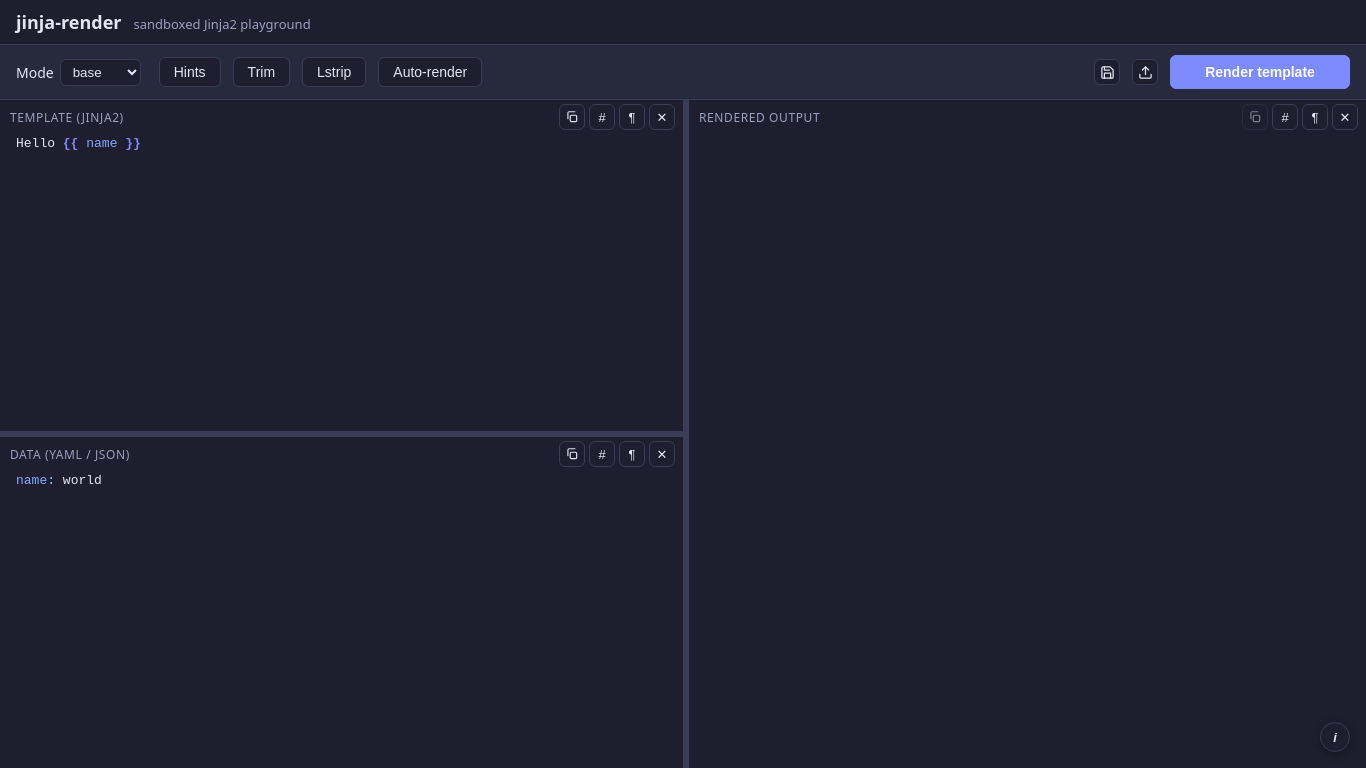
template #jinja2 directive line › appears and disappears when toggling an option
This screenshot has width=1366, height=768.
Expected: the field labelled "template" does not show "#jinja2"
Click the button "Lstrip" at (334, 72), box [302,57,366,87]
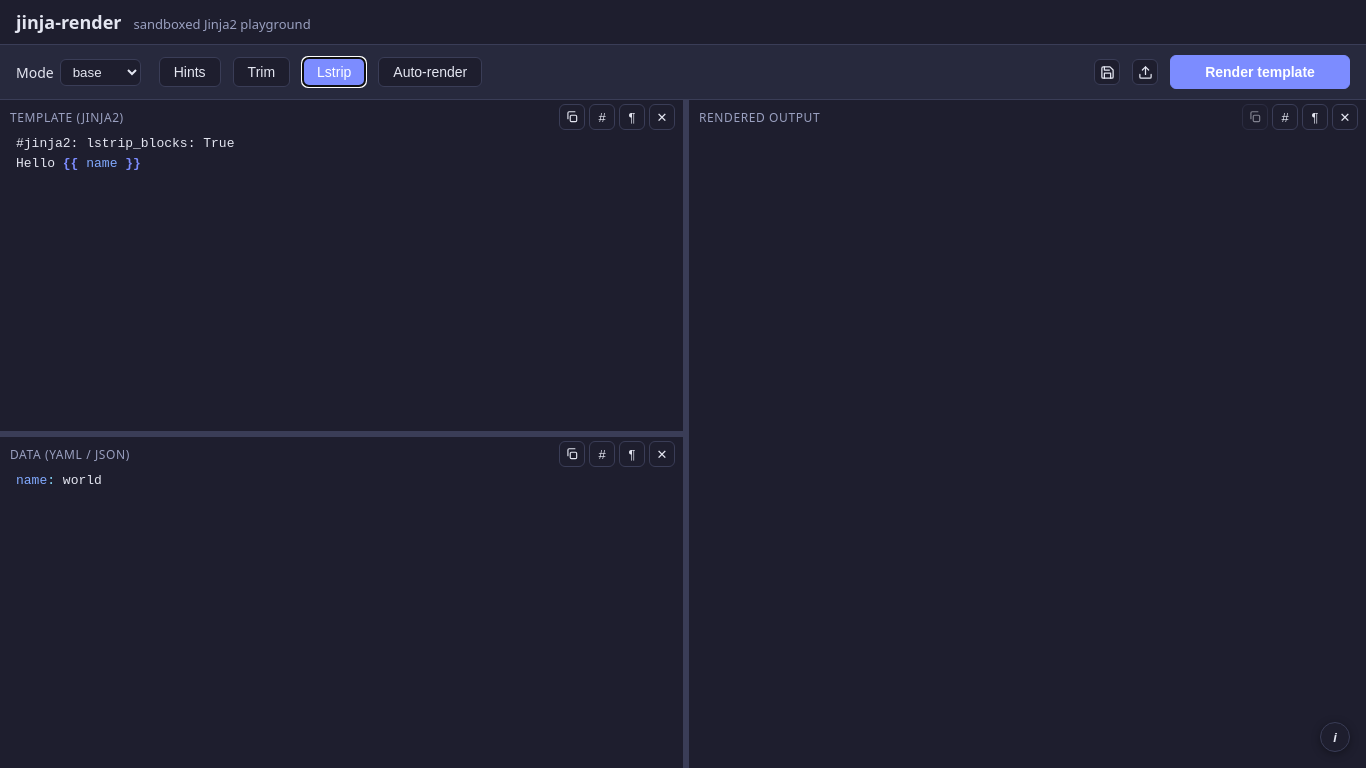
Now the field named "template" shows "#jinja2: lstrip_blocks: True", box [16,136,234,170]
Click the button "Lstrip" at (334, 72), box [302,57,366,87]
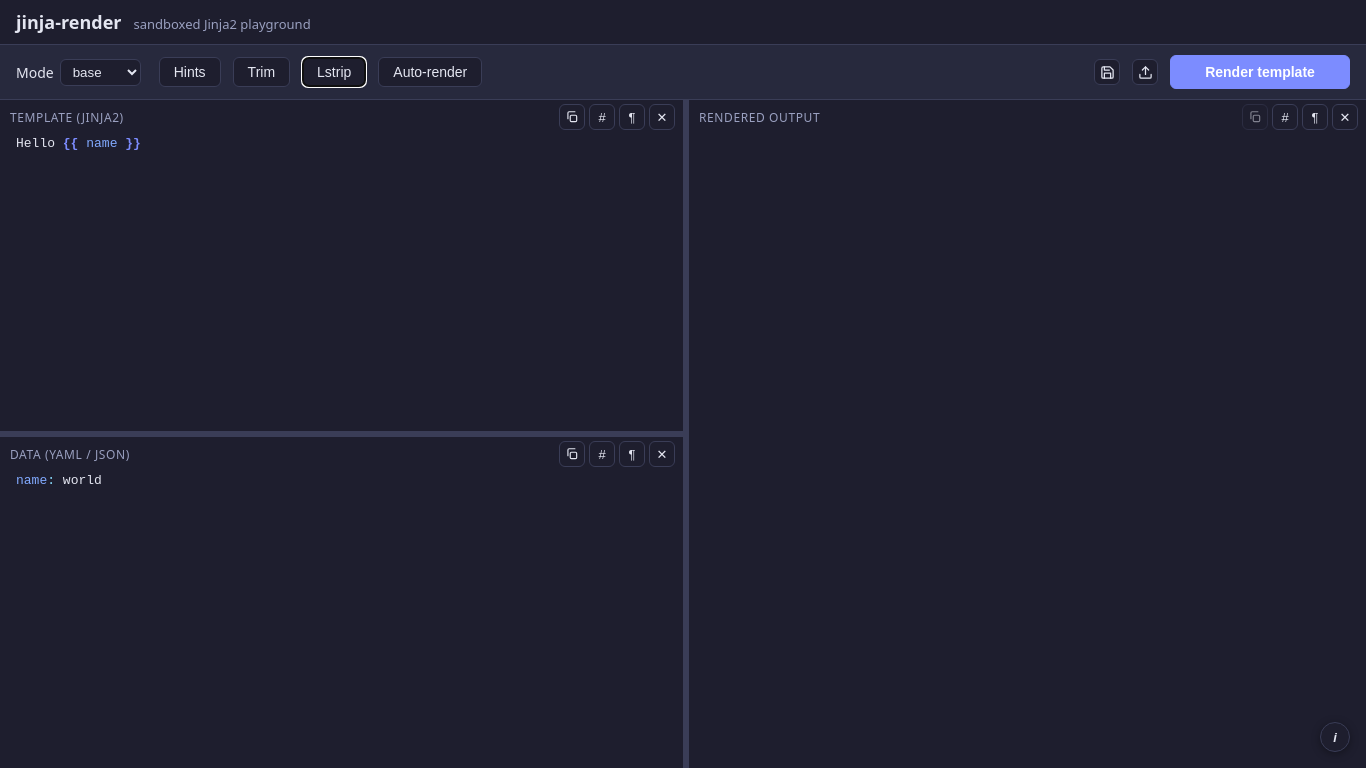
Now the field labelled "template" no longer shows "#jinja2"
